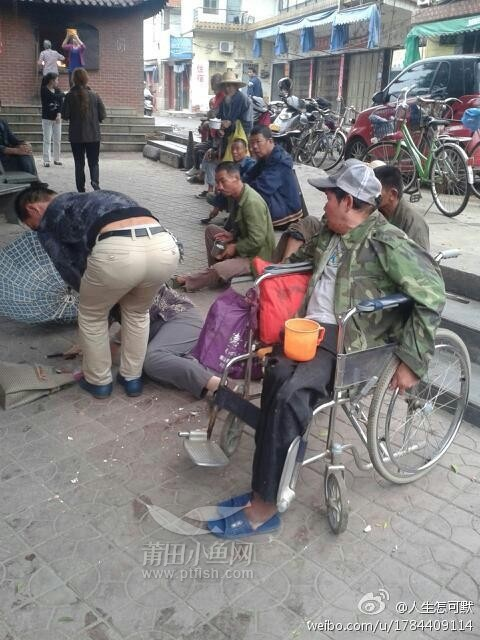falling: (122, 269, 252, 418)
